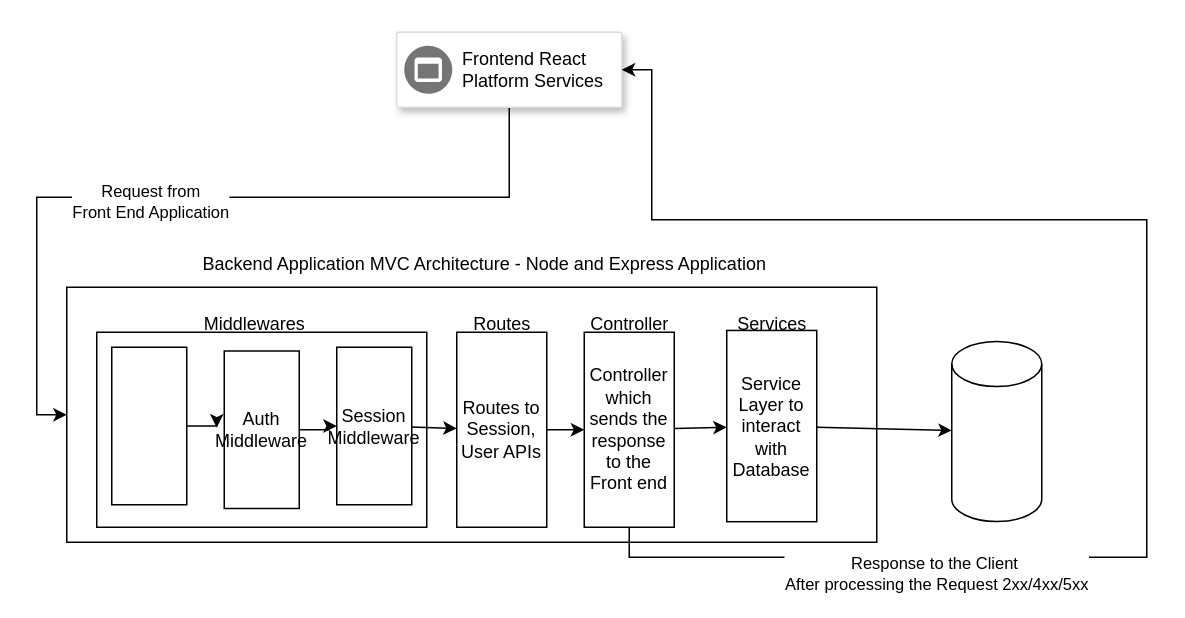
Some shapes in this 1185 by 618 pixel diagram are drawn without their labels. Here are the shapes that lost their labels. From the top down, the centre of each, then its label:
the point at 148,425: logger Middleware
the point at 996,431: MongoDB
